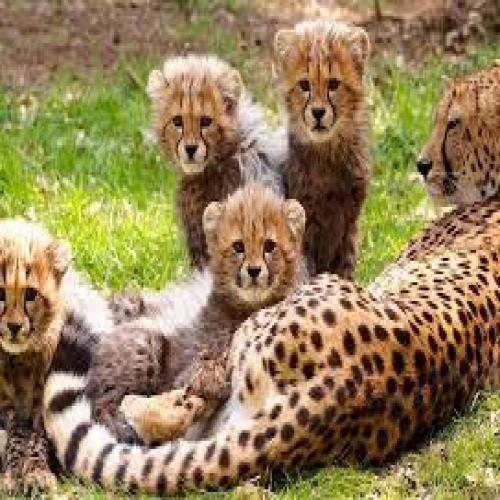cheetah-endangered: (45, 58, 500, 492), (123, 181, 307, 381), (146, 59, 267, 271), (270, 26, 370, 278), (1, 214, 112, 426)
